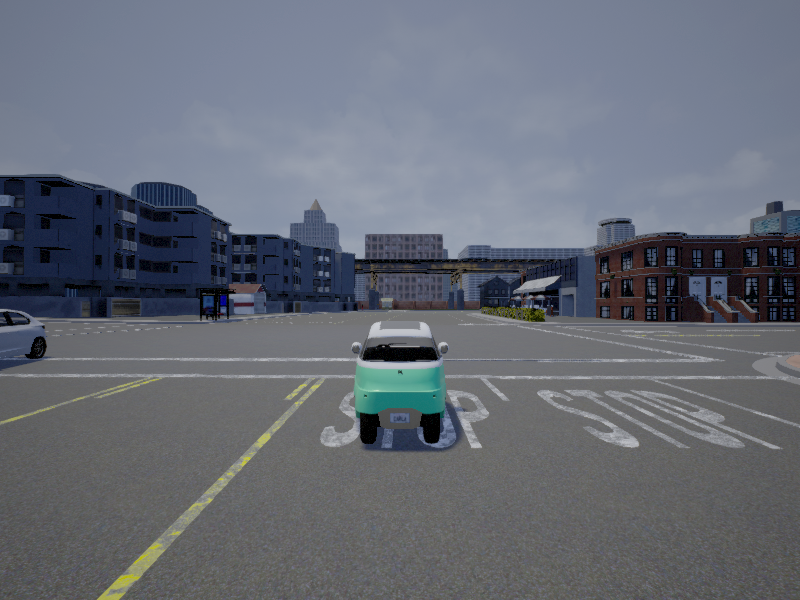Benign: (353, 321, 449, 442), (1, 309, 46, 362)
